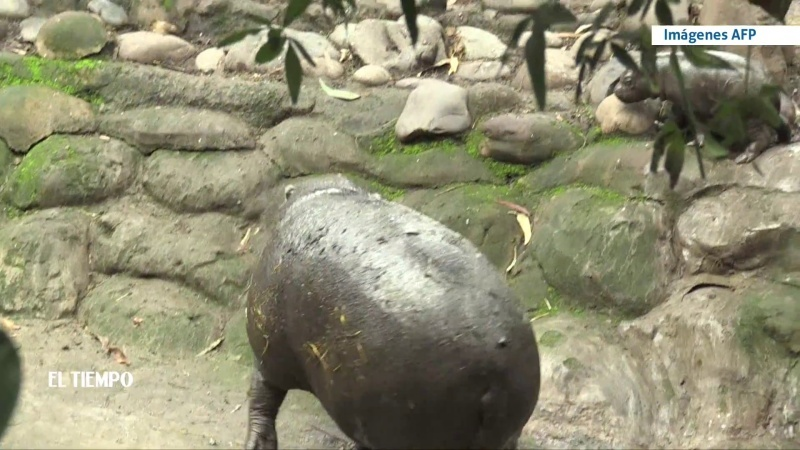hipopotamo: (208, 158, 548, 450)
